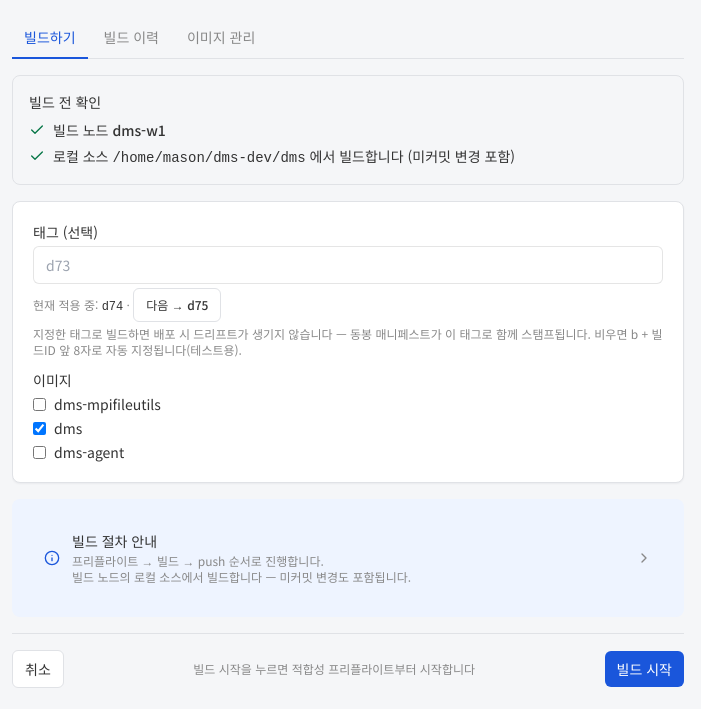
Test: BuildForm — 빌드하기(기본 하위 페이지) › 제출이 실패하면 이동하지 않고 한국어 오류를 폼 옆에 남긴다
This screenshot has width=701, height=709.
Step 1. Click the button "빌드 시작" → (644, 669), box [604,651,684,687]
(page scrolled)
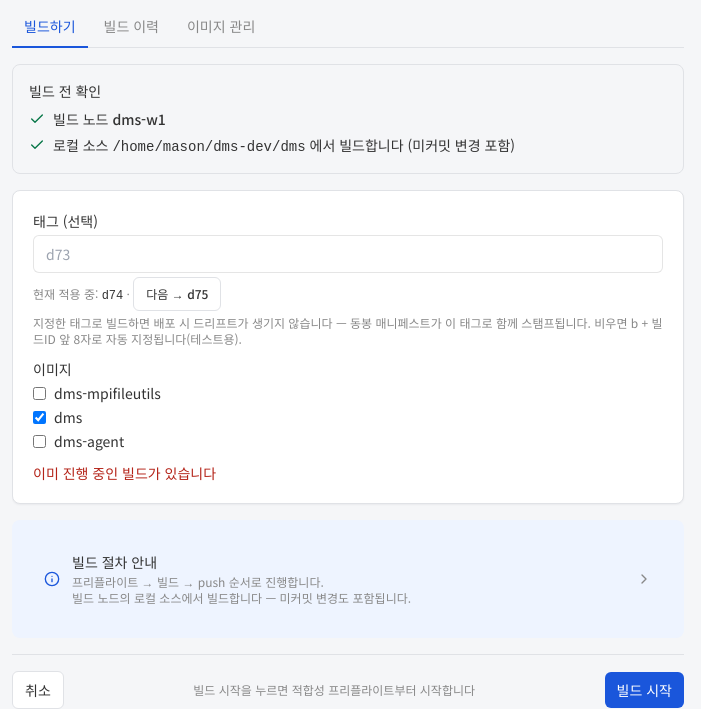
Expected: the button "빌드 시작" is shown, [604,672,684,708]
Now the text "이미 진행 중인 빌드가 있습니다" is shown, box [33,463,216,483]
